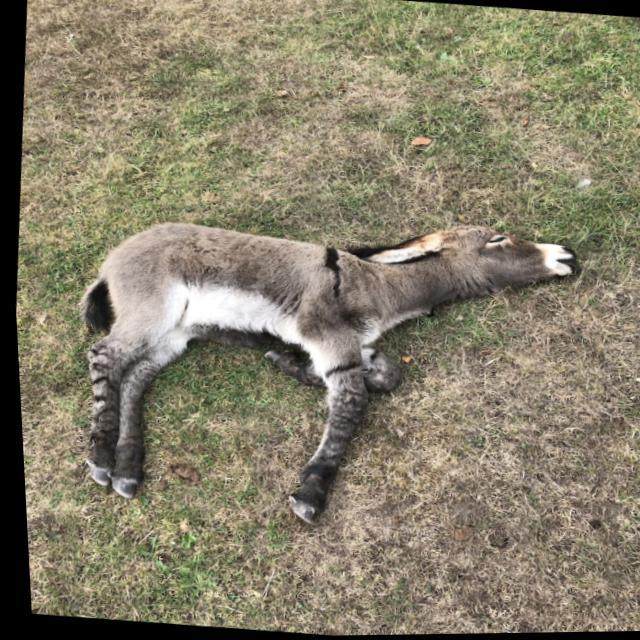Donkey: (53, 189, 592, 551)
